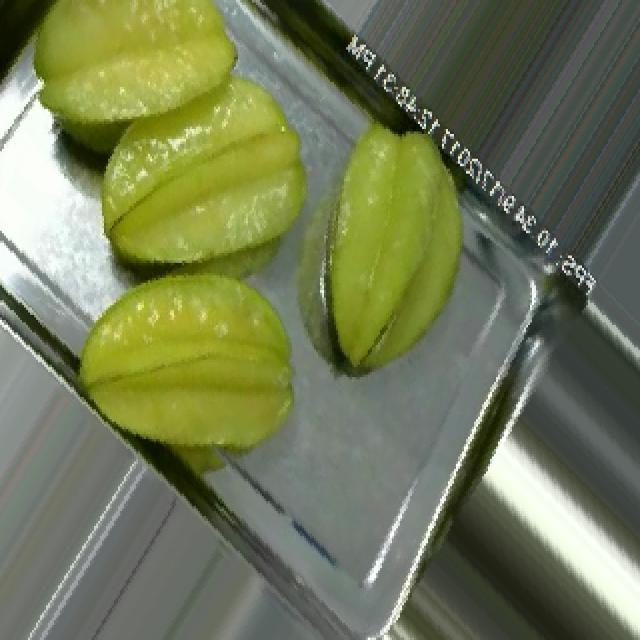fruit: (2, 0, 358, 325), (26, 216, 350, 516), (256, 92, 510, 409)
